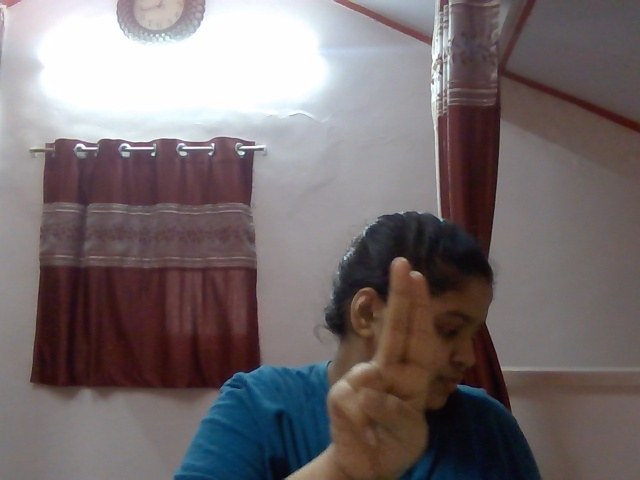u: (335, 257, 439, 468)
